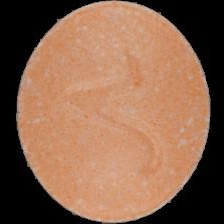50436-3524: (0, 0, 224, 224)
